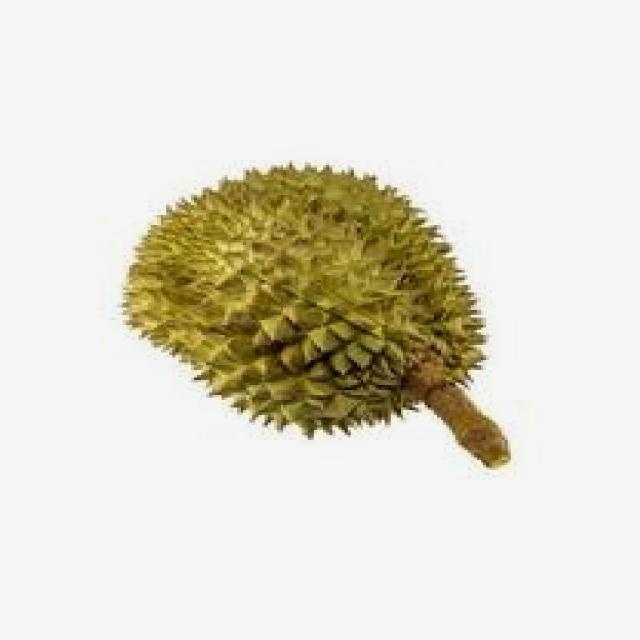agrume: (95, 137, 511, 467)
